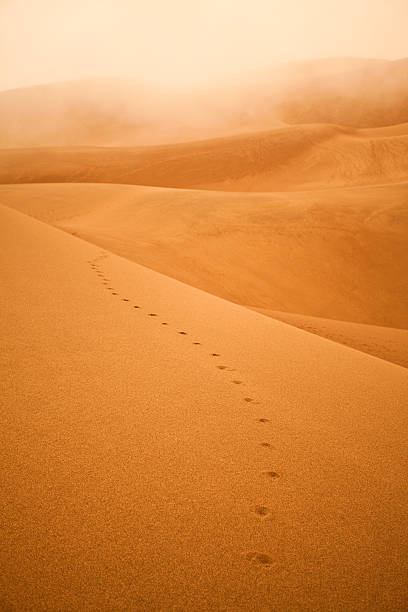human_foot_print: (246, 552, 272, 567), (251, 505, 270, 517), (264, 471, 279, 478), (260, 441, 273, 449), (257, 417, 269, 422), (232, 379, 242, 384), (210, 352, 219, 356), (147, 313, 157, 316), (177, 331, 186, 334)
